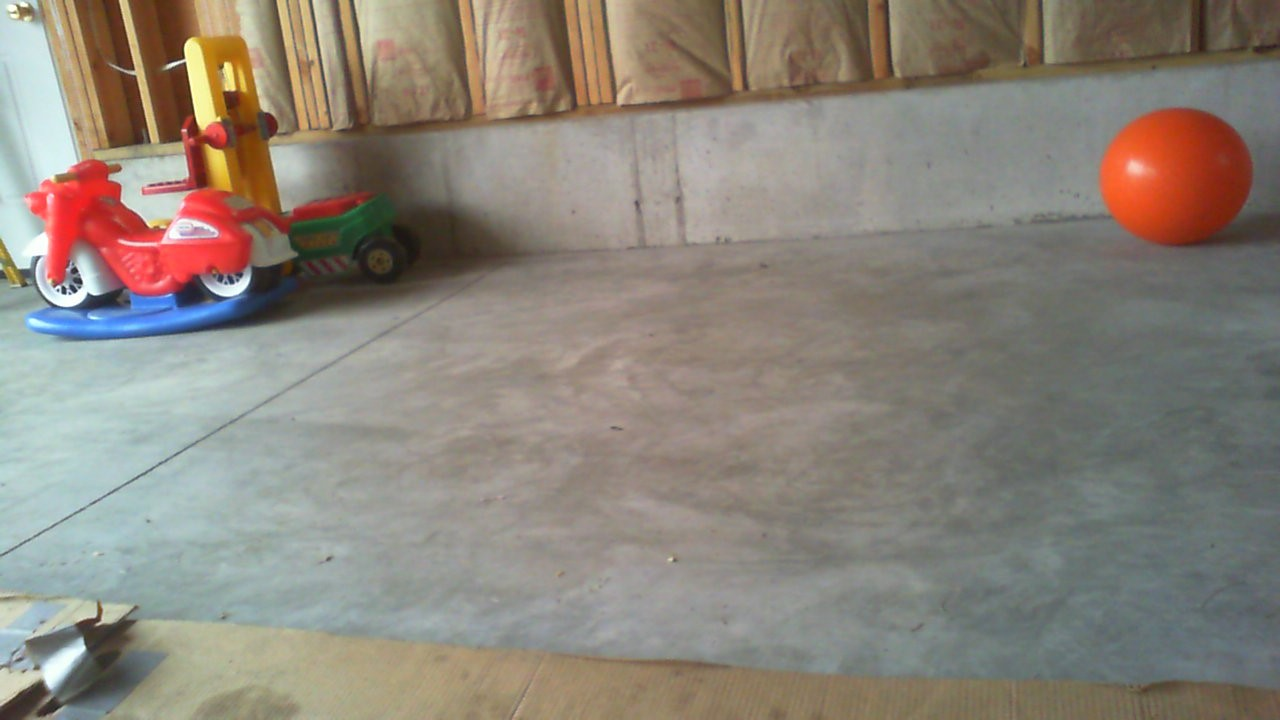Ball: (1100, 107, 1252, 244)
